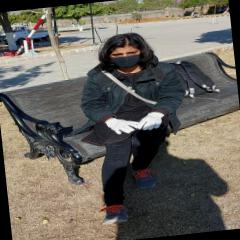gloved: (106, 114, 139, 135), (137, 111, 165, 130)
